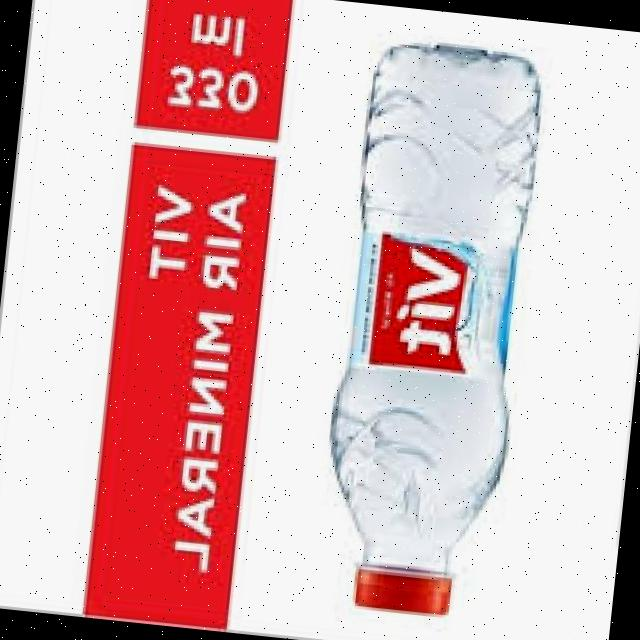bottle: (294, 23, 574, 640)
cap: (355, 565, 459, 619)
label: (339, 220, 525, 380)
